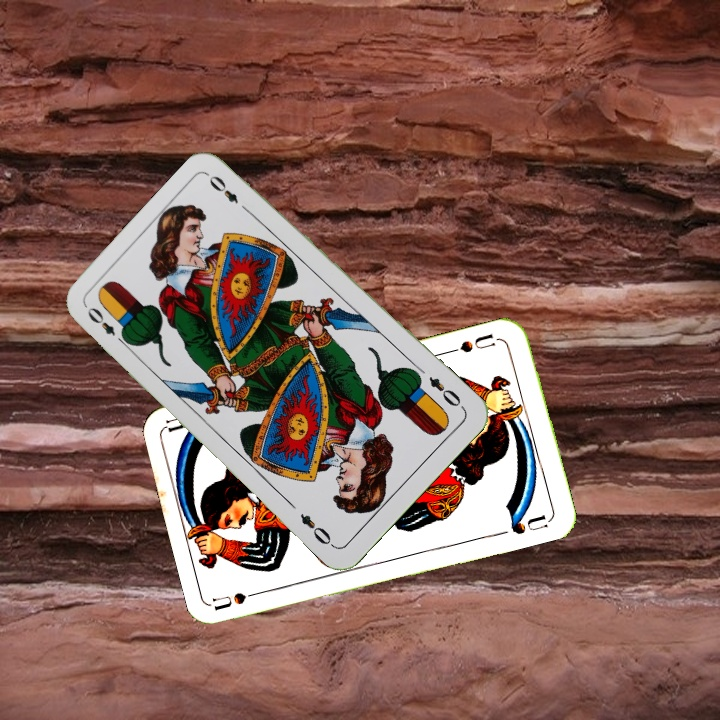EO: (82, 303, 131, 349), (424, 372, 464, 410)
SU: (211, 585, 270, 612), (446, 329, 504, 356)
